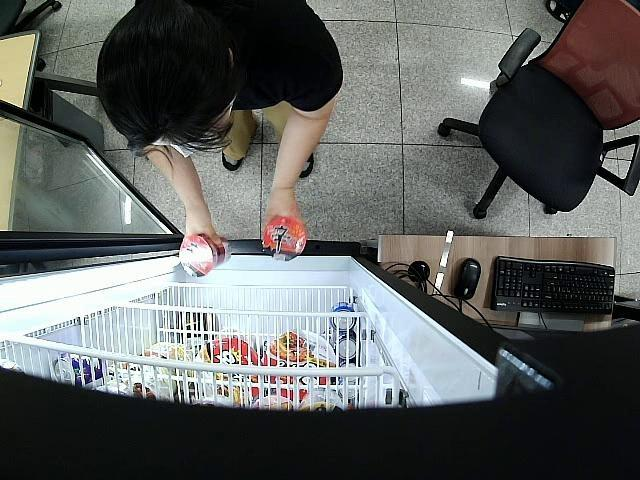02_shinRamen_S: (178, 232, 230, 278), (262, 219, 307, 260)
